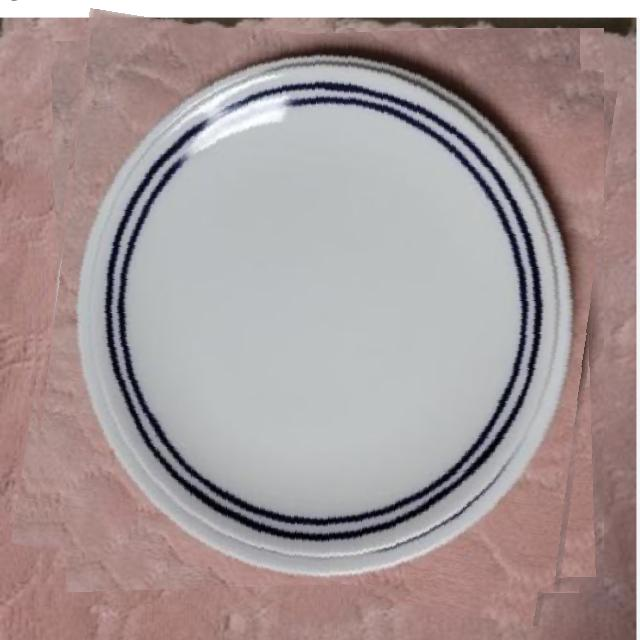recyclable: (26, 28, 604, 607)
